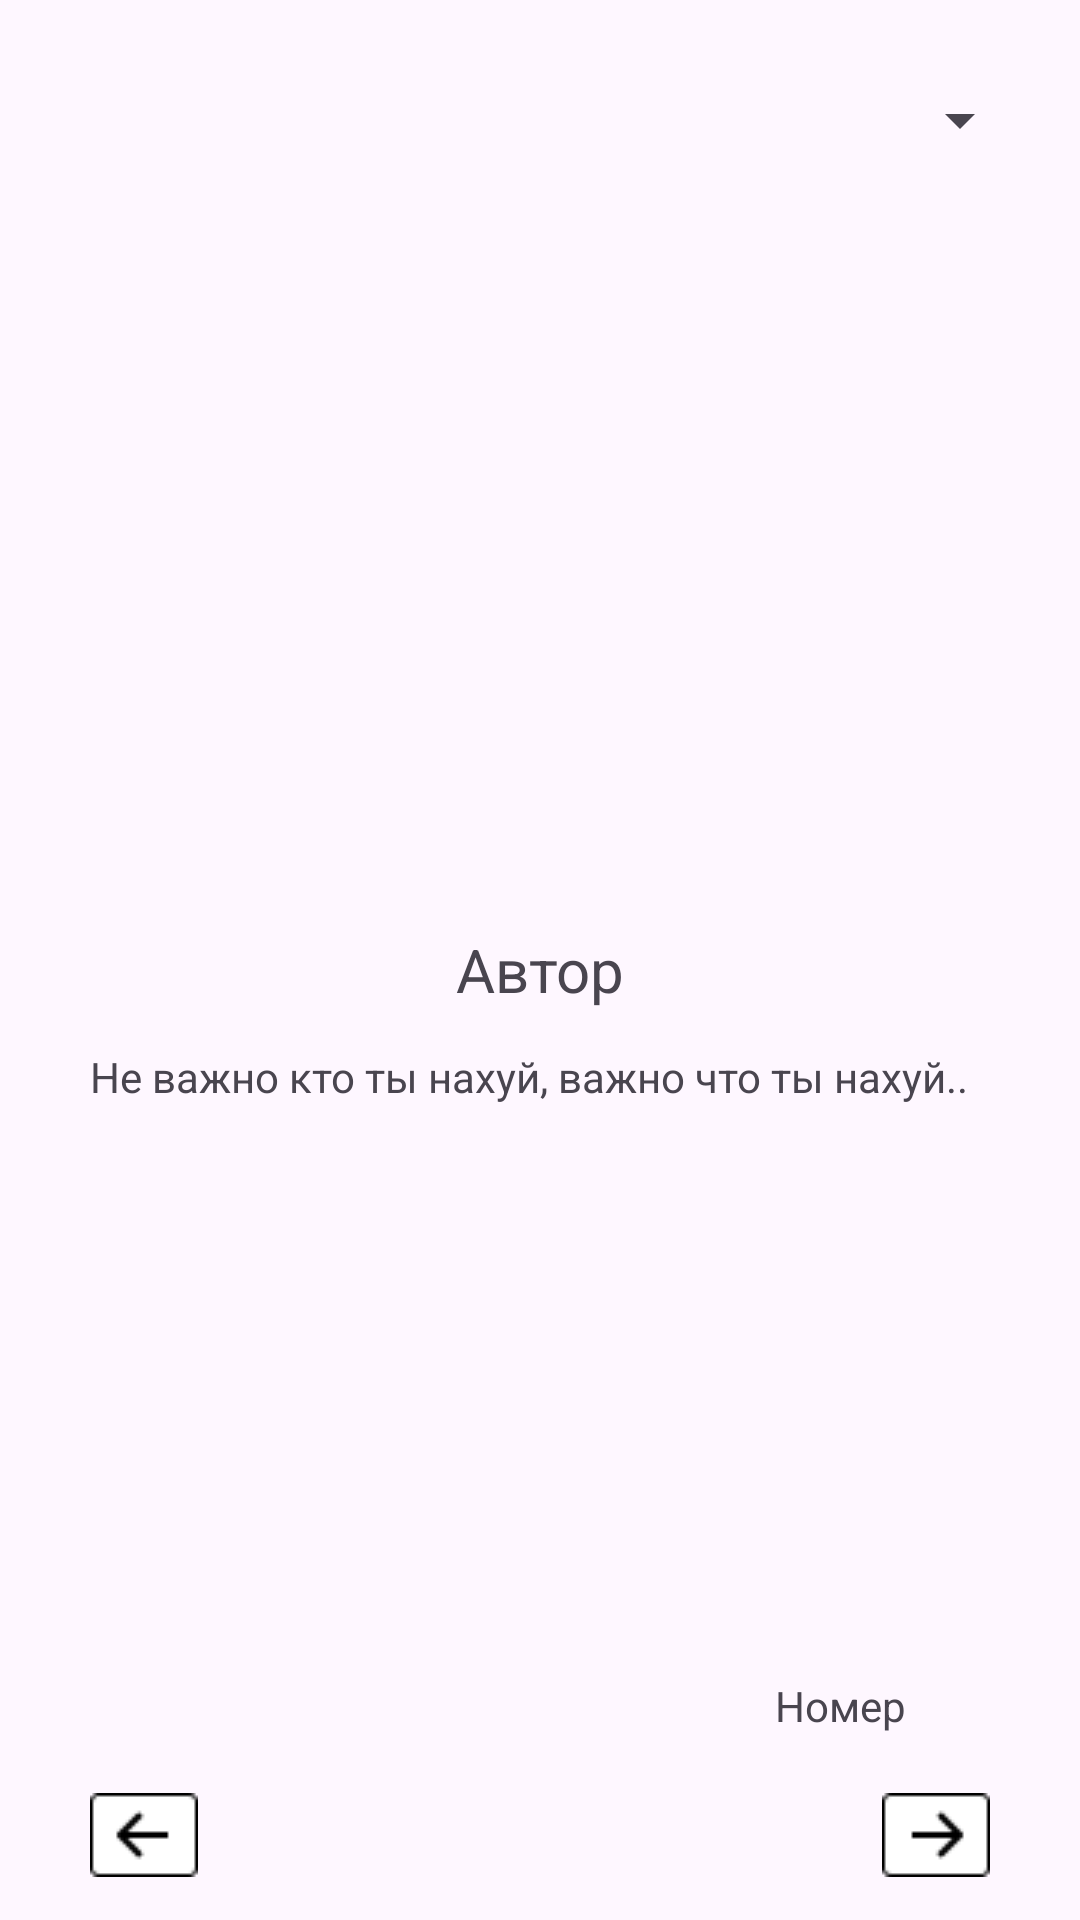

Screen size 1080 x 1920. Icon name, then its box in pixels as (x1, y1, x2, y2):
arrow left: (90, 1793, 198, 1877)
arrow right: (882, 1793, 990, 1877)
